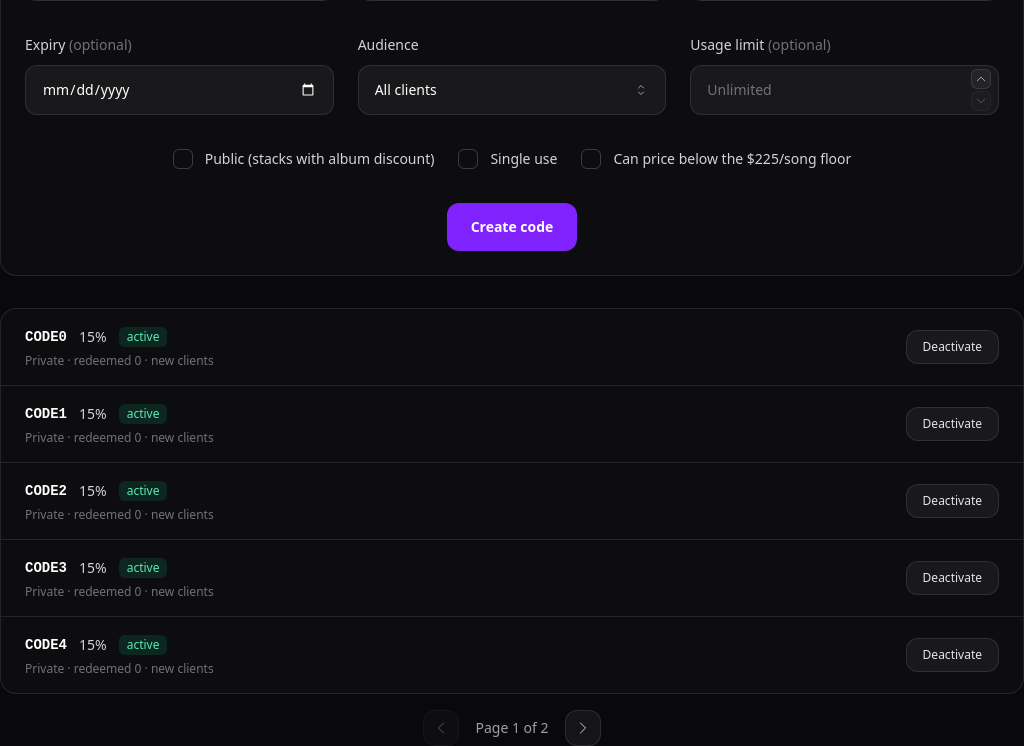
Test: DiscountCodesAdmin › paginates the list only past 5 codes
This screenshot has width=1024, height=746.
(page scrolled)
Expected: the text "CODE0" is shown, [25, 325, 67, 349]
Expected: the text "CODE4" is shown, [25, 633, 67, 657]
What coordinates should you click on to do the following:
click the button named "Next page"
I would click on:
 (582, 728)
Its box is [564, 710, 600, 745].
(page scrolled)
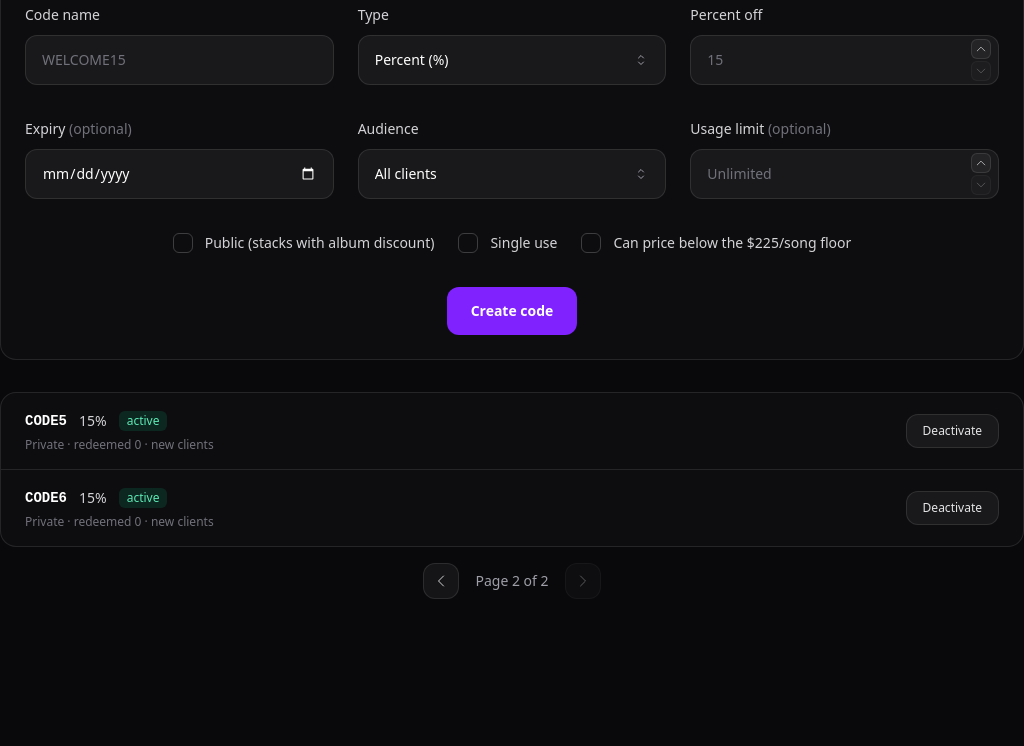
Result: the text "CODE5" is shown at [25, 409, 67, 433]
Result: the text "CODE6" is shown at [25, 486, 67, 510]
Result: the text "CODE0" is gone
